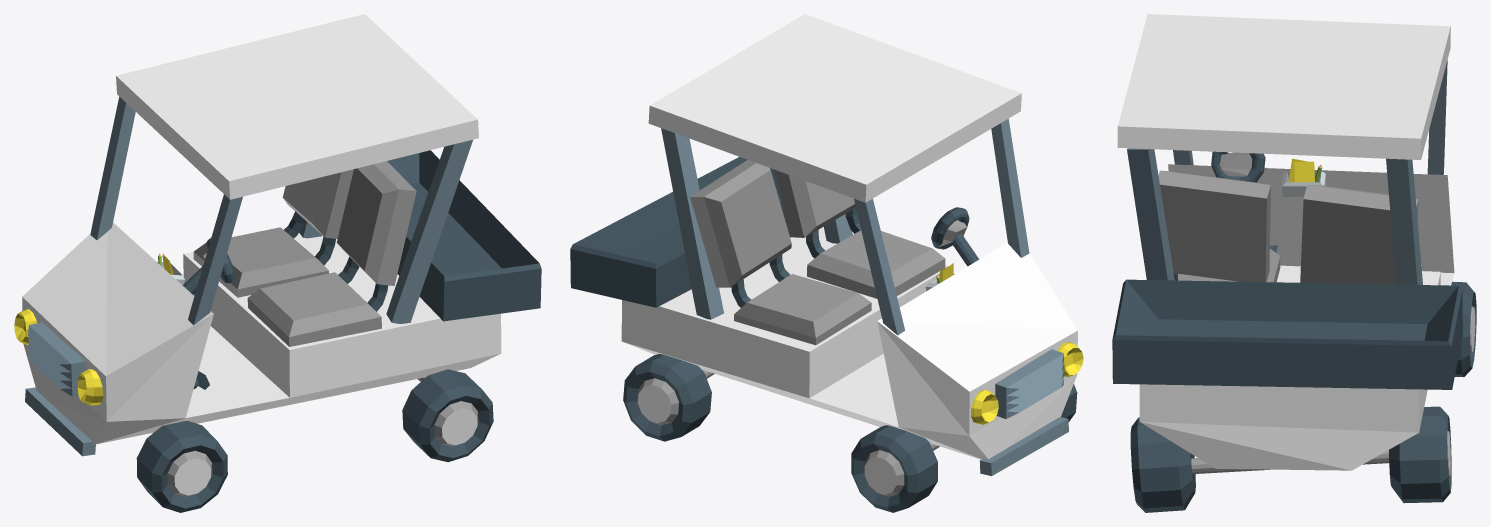
Rendered from Golf_cart.glb.
3 views of the same model, side by side, from view 1: azimuth 30°, elevation 25°; view 2: azimuth 150°, elevation 25°; view 3: azimuth 270°, elevation 25° (orthographic). The views are drawn at different scales.
Parts seen in each view (by area): view 1: Node; view 2: Node; view 3: Node.
Part boxes in pixels (x1,y1,x2,y2): Node: [14, 14, 541, 512]; Node: [570, 14, 1083, 512]; Node: [1112, 14, 1476, 512].
Size of the model in its own units: 2.46 by 1.9 by 1.61.
